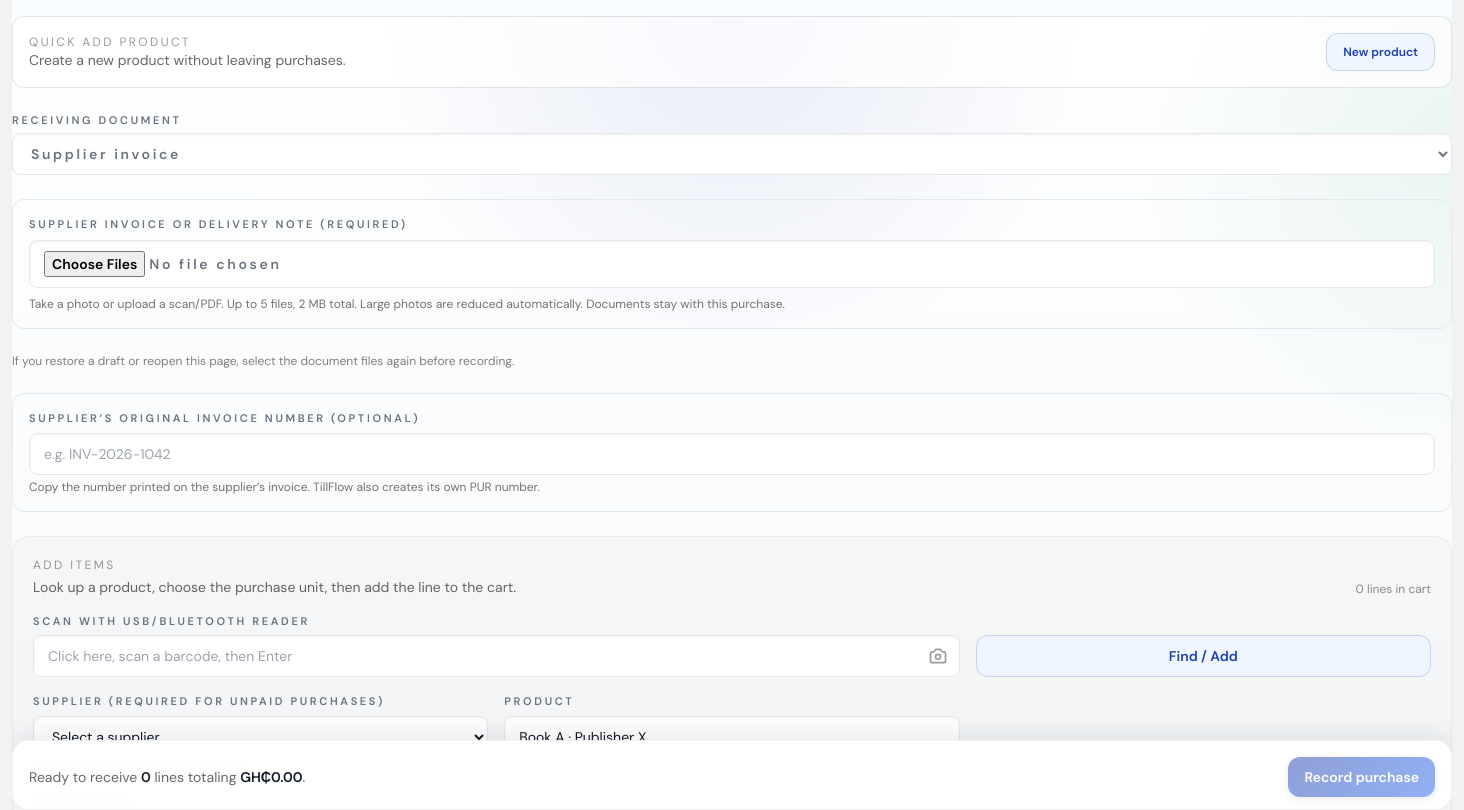
Scenario: physical scanner Enter selects the matching publisher through its alternate code
This screenshot has width=1464, height=810.
Type "ALT-Y" into the field labelled "Scan with USB/Bluetooth reader" at (496, 656), box left=33, top=635, right=960, bottom=677
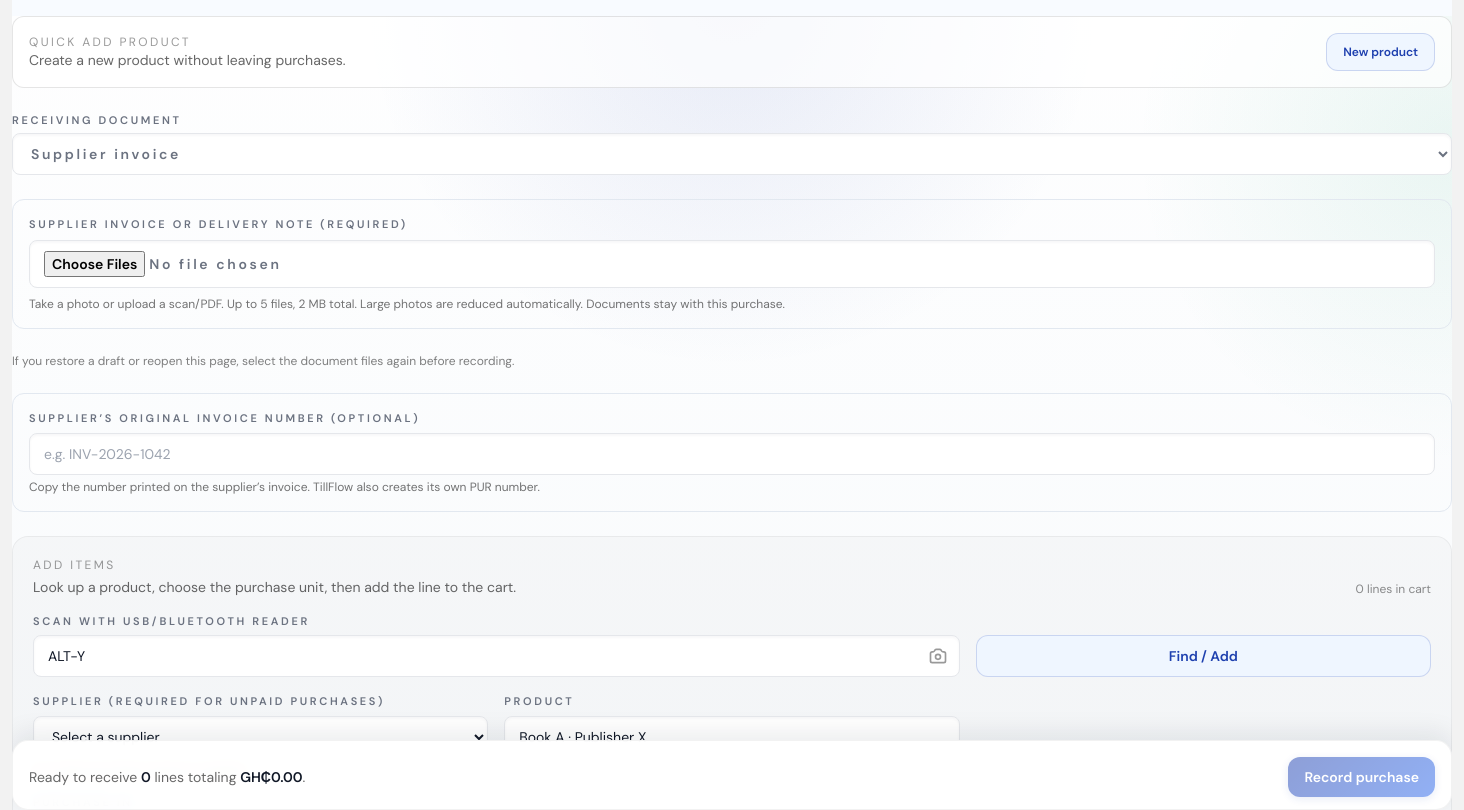
Press Enter in the field labelled "Scan with USB/Bluetooth reader", box left=33, top=635, right=960, bottom=677
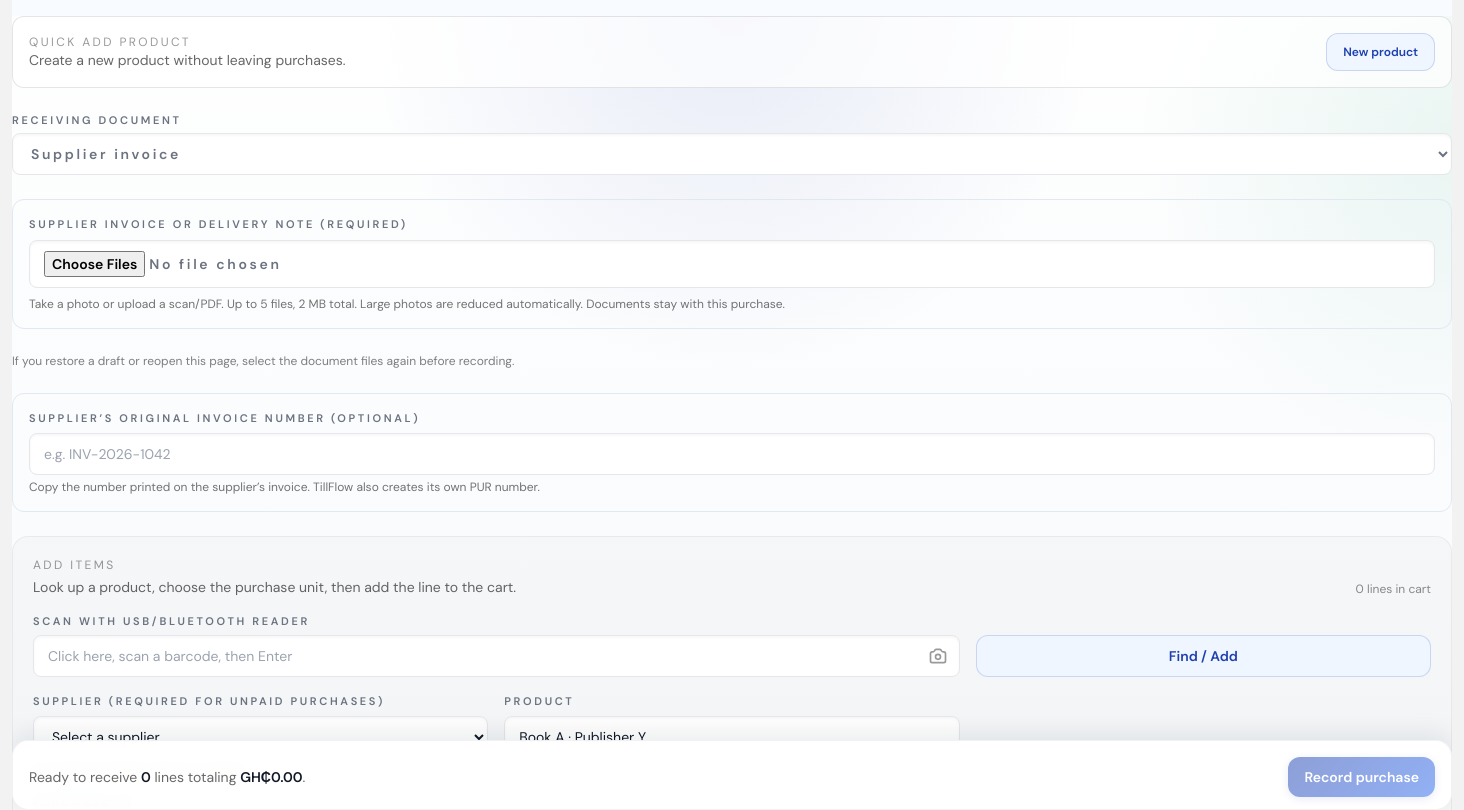
Now the field showing "Book A · Publisher Y" is shown, box left=504, top=716, right=960, bottom=758
Now the field labelled "Scan with USB/Bluetooth reader" is empty, box left=33, top=635, right=960, bottom=677
